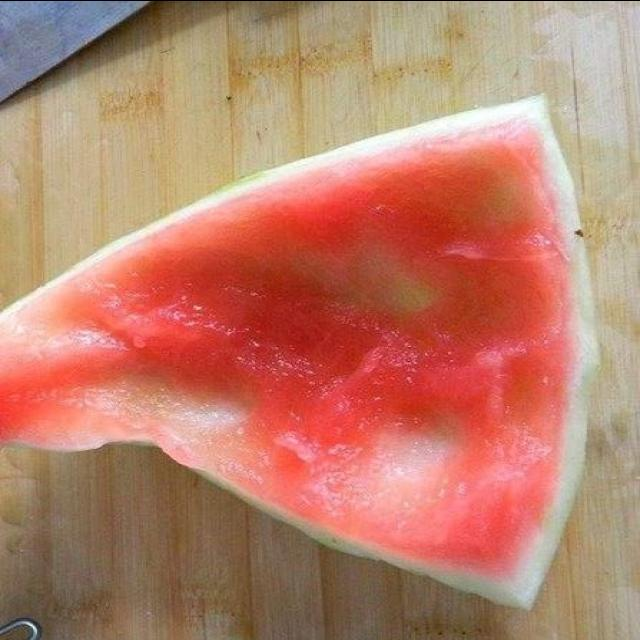-Kitchen waste - fruit-: (0, 100, 583, 597)
